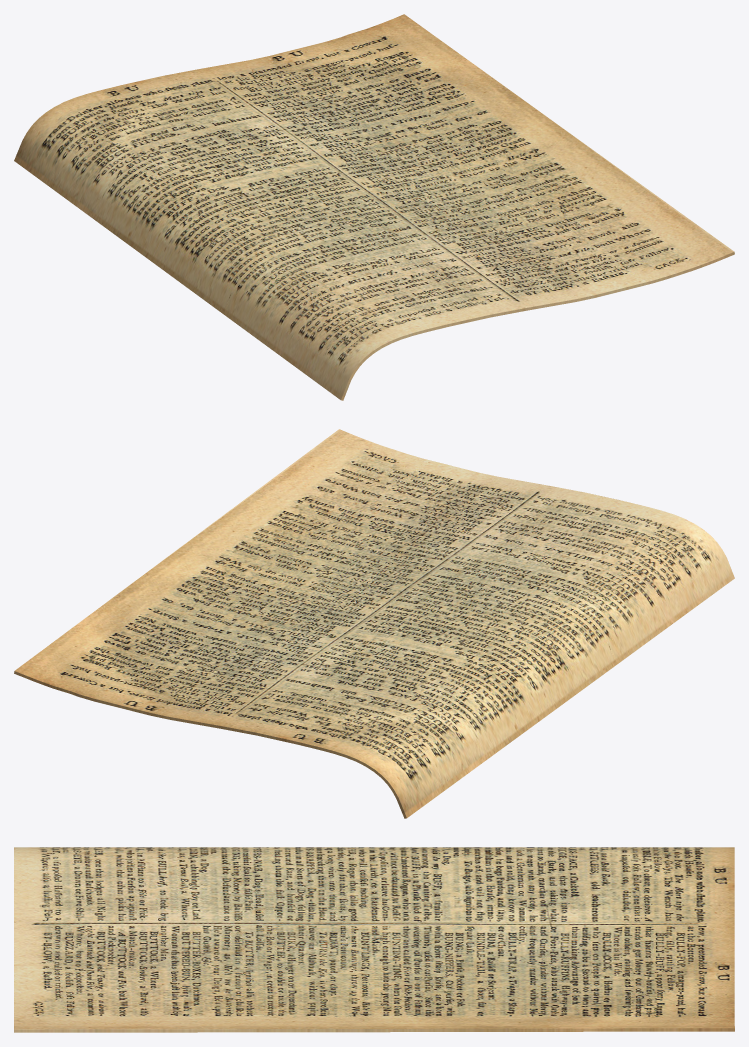
The model's file is right page.fbx.
3 renders of one model, top to bottom at view 1: azimuth 30°, elevation 25°; view 2: azimuth 150°, elevation 25°; view 3: azimuth 270°, elevation 25°, orthographic. The views are drawn at different scales.
Parts seen in each view (by area): view 1: polySurface25; view 2: polySurface25; view 3: polySurface25.
Boxes of the visible parts, x1=… form: polySurface25: x1=14, y1=14, x2=734, y2=400; polySurface25: x1=14, y1=429, x2=734, y2=818; polySurface25: x1=14, y1=847, x2=734, y2=1032.
Size of the model in its own units: 12.19 by 1.59 by 17.49.
1 material, 1 textured.
